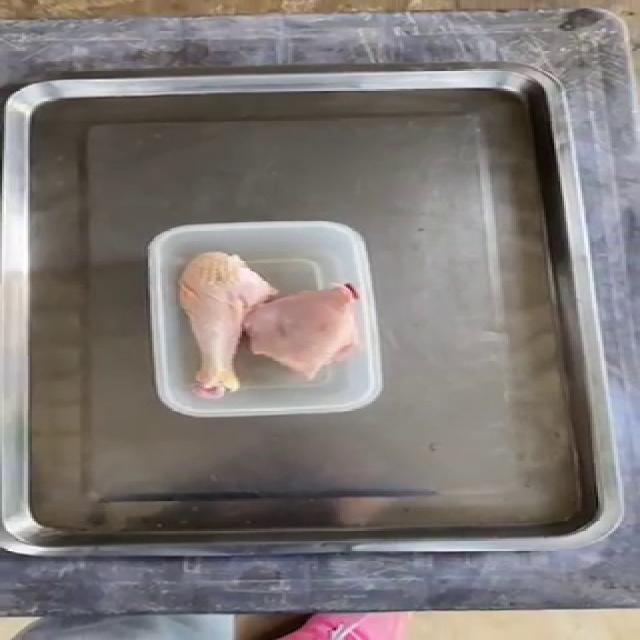chicken: (176, 250, 278, 399), (241, 281, 360, 381)
